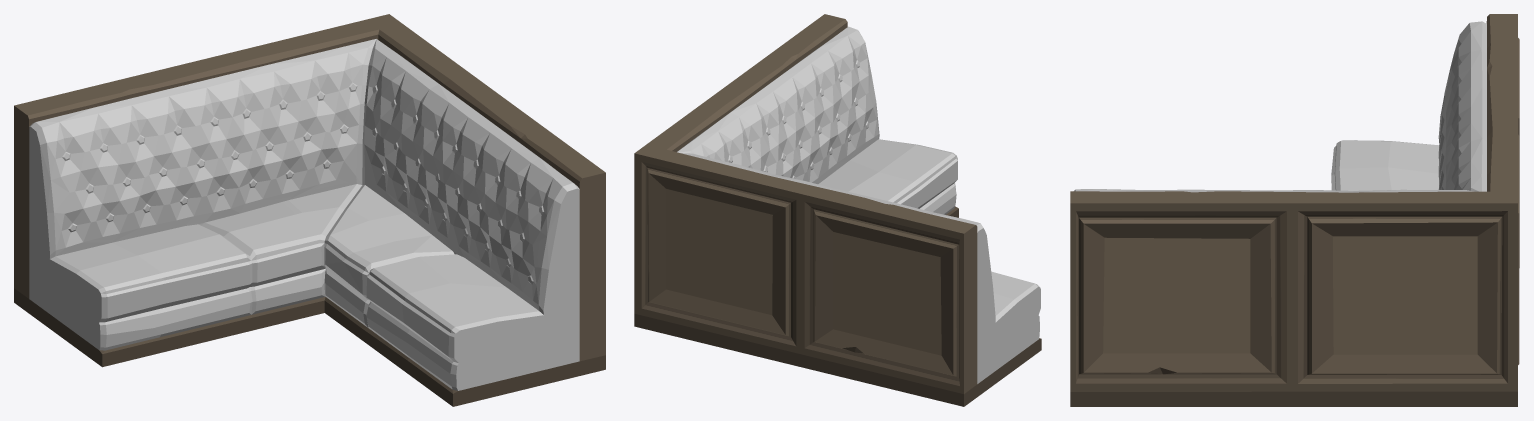
File: Prop_Sofa_01_Corner_01.fbx
The picture shows the model from 3 angles, left to right: view 1: azimuth 30°, elevation 25°; view 2: azimuth 150°, elevation 25°; view 3: azimuth 270°, elevation 25°; orthographic projection. The views are drawn at different scales.
Parts seen in each view (by area): view 1: SM_Prop_Sofa_01_Corner_01; view 2: SM_Prop_Sofa_01_Corner_01; view 3: SM_Prop_Sofa_01_Corner_01.
Part boxes in pixels (bbox=[...]): SM_Prop_Sofa_01_Corner_01: bbox=[14, 14, 605, 406]; SM_Prop_Sofa_01_Corner_01: bbox=[634, 14, 1041, 406]; SM_Prop_Sofa_01_Corner_01: bbox=[1070, 14, 1519, 406].
Size of the model in its own units: 200 by 100 by 200.
